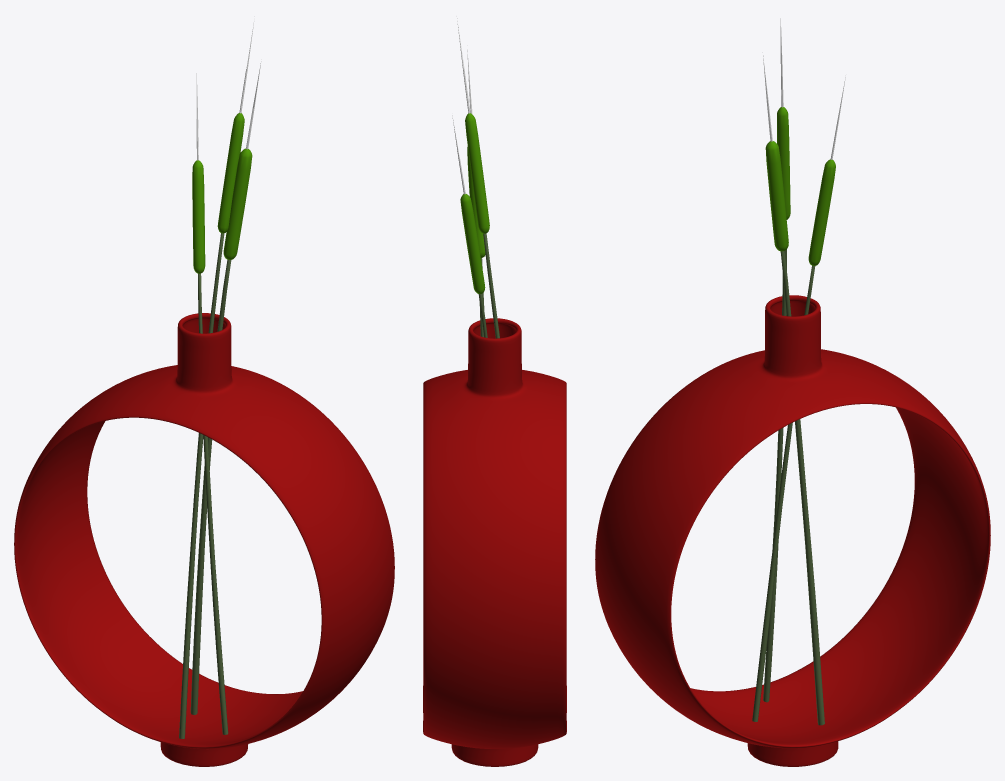
File: fig.obj
The picture shows the model from 3 angles, left to right: view 1: azimuth 30°, elevation 25°; view 2: azimuth 150°, elevation 25°; view 3: azimuth 270°, elevation 25°; orthographic projection. The views are drawn at different scales.
Parts seen in each view (by area): view 1: Mesh10 vaza1 skp40AE1 Model, Mesh1 G_1_1 skp40AE1 Model, Mesh4 G_2_1 skp40AE1 Model, Mesh7 G_3_1 skp40AE1 Model, Mesh5 G_2_1 skp40AE1 Model, Mesh2 G_1_1 skp40AE1 Model, Mesh8 G_3_1 skp40AE1 Model; view 2: Mesh10 vaza1 skp40AE1 Model, Mesh2 G_1_1 skp40AE1 Model, Mesh8 G_3_1 skp40AE1 Model, Mesh1 G_1_1 skp40AE1 Model, Mesh5 G_2_1 skp40AE1 Model; view 3: Mesh10 vaza1 skp40AE1 Model, Mesh4 G_2_1 skp40AE1 Model, Mesh7 G_3_1 skp40AE1 Model, Mesh5 G_2_1 skp40AE1 Model, Mesh1 G_1_1 skp40AE1 Model, Mesh8 G_3_1 skp40AE1 Model, Mesh2 G_1_1 skp40AE1 Model.
Part boxes in pixels (x1,y1,x2,y2): Mesh10 vaza1 skp40AE1 Model: [14, 313, 394, 766]; Mesh1 G_1_1 skp40AE1 Model: [179, 233, 224, 738]; Mesh4 G_2_1 skp40AE1 Model: [190, 259, 231, 714]; Mesh7 G_3_1 skp40AE1 Model: [198, 273, 228, 734]; Mesh5 G_2_1 skp40AE1 Model: [223, 148, 252, 259]; Mesh2 G_1_1 skp40AE1 Model: [217, 113, 244, 233]; Mesh8 G_3_1 skp40AE1 Model: [192, 160, 205, 273]; Mesh10 vaza1 skp40AE1 Model: [423, 318, 566, 766]; Mesh2 G_1_1 skp40AE1 Model: [465, 113, 489, 233]; Mesh8 G_3_1 skp40AE1 Model: [460, 194, 485, 293]; Mesh1 G_1_1 skp40AE1 Model: [483, 233, 499, 338]; Mesh5 G_2_1 skp40AE1 Model: [467, 146, 485, 257]; Mesh10 vaza1 skp40AE1 Model: [595, 295, 990, 766]; Mesh4 G_2_1 skp40AE1 Model: [780, 251, 824, 725]; Mesh7 G_3_1 skp40AE1 Model: [752, 265, 815, 721]; Mesh5 G_2_1 skp40AE1 Model: [765, 141, 788, 251]; Mesh1 G_1_1 skp40AE1 Model: [763, 249, 786, 702]; Mesh8 G_3_1 skp40AE1 Model: [808, 159, 835, 265]; Mesh2 G_1_1 skp40AE1 Model: [777, 107, 790, 219].
Size of the model in its own units: 9.16 by 24.33 by 11.52.
